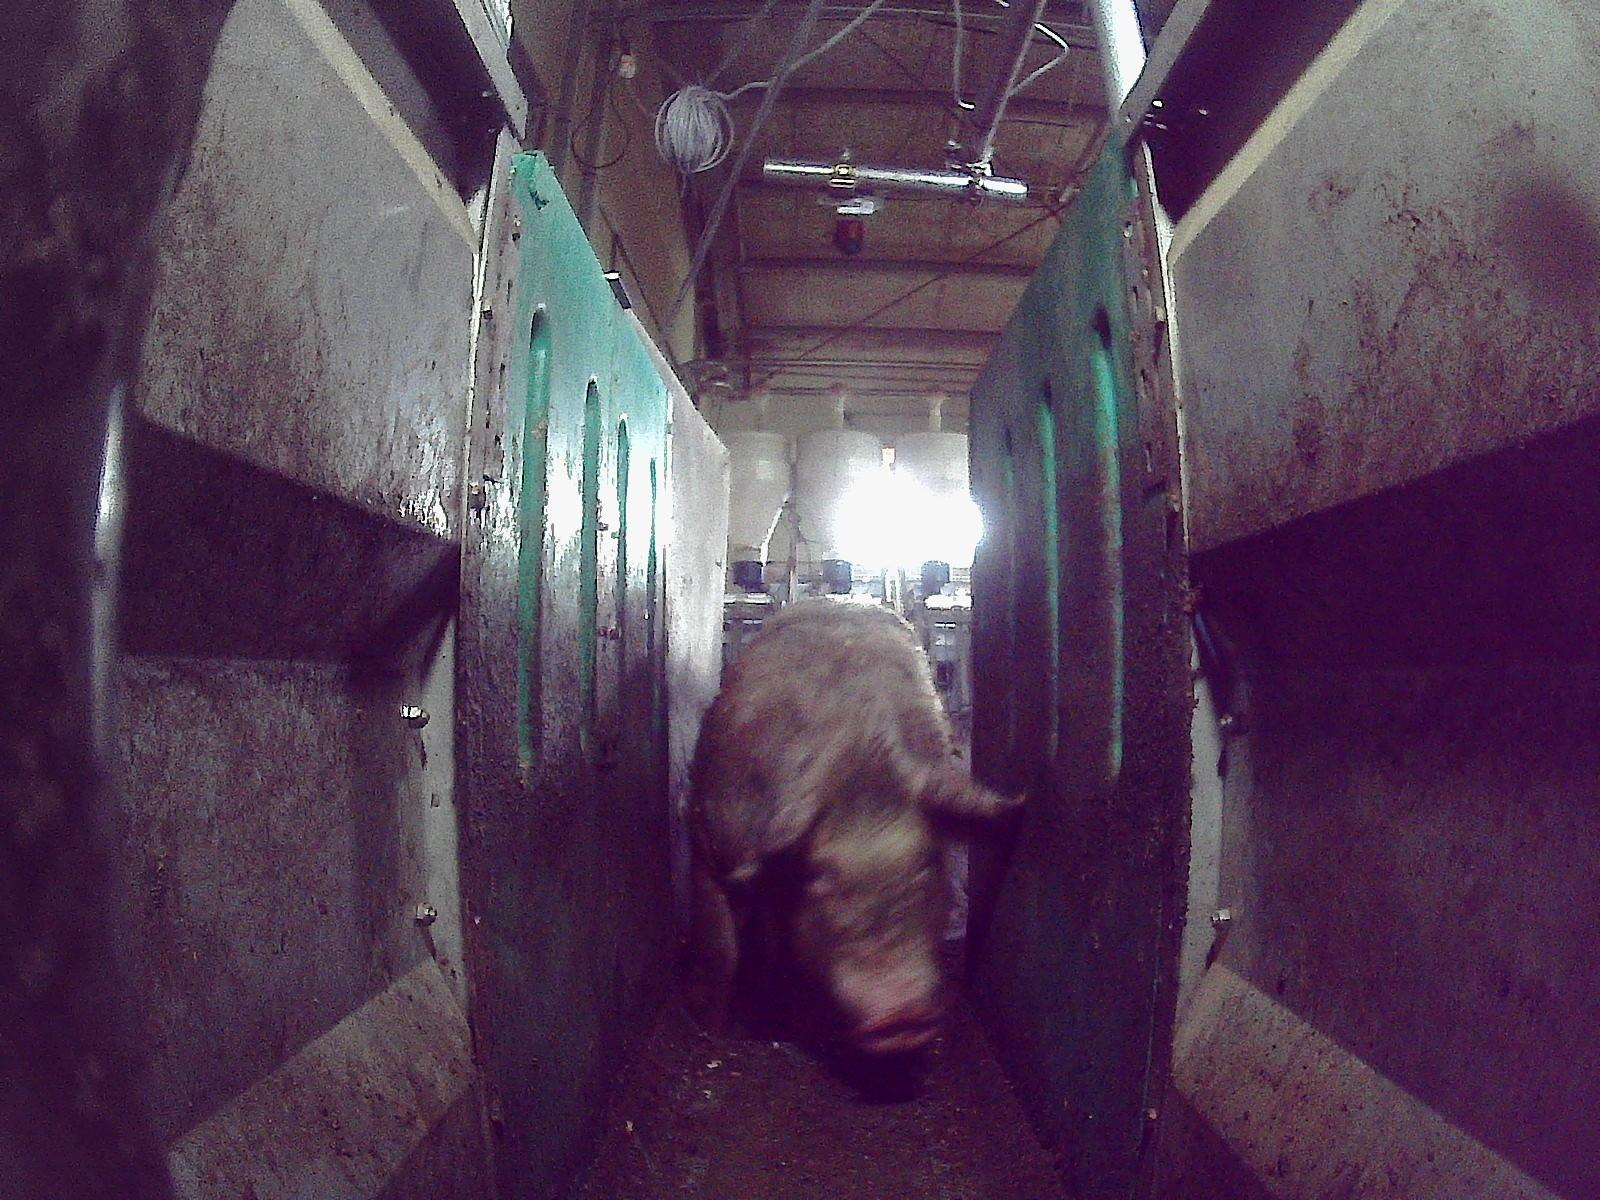Face: (760, 761, 947, 1051)
